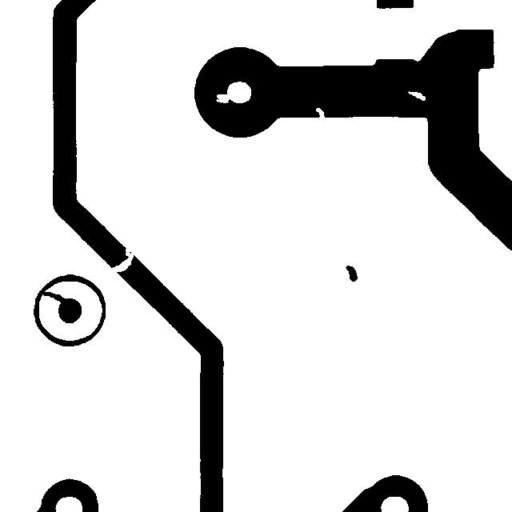copper: (338, 258, 365, 289)
mousebite: (208, 86, 240, 110), (308, 100, 332, 127)
open: (104, 240, 141, 279)
pin-hole: (400, 83, 433, 108)
short: (35, 284, 75, 311)
